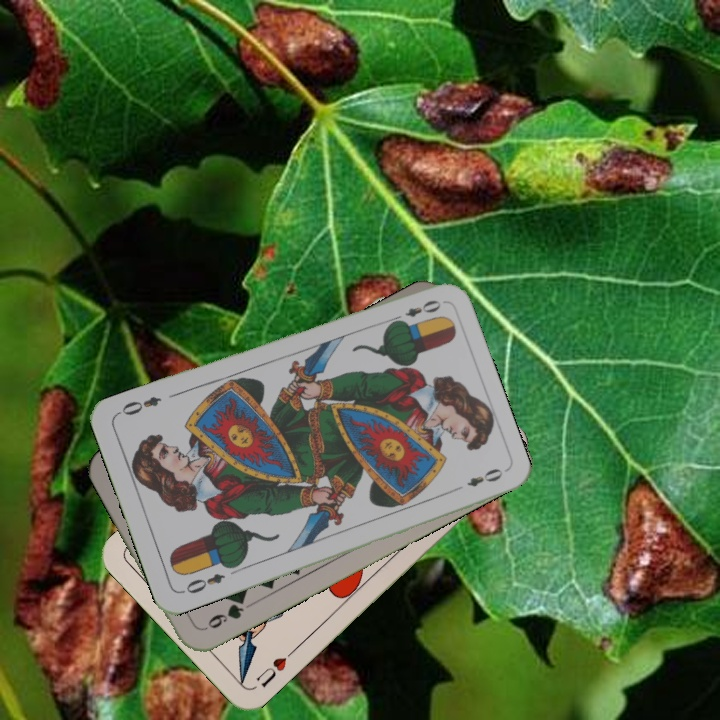EO: (387, 296, 444, 327), (177, 569, 228, 597)
G9: (198, 592, 248, 634)
HU: (251, 645, 297, 690)
